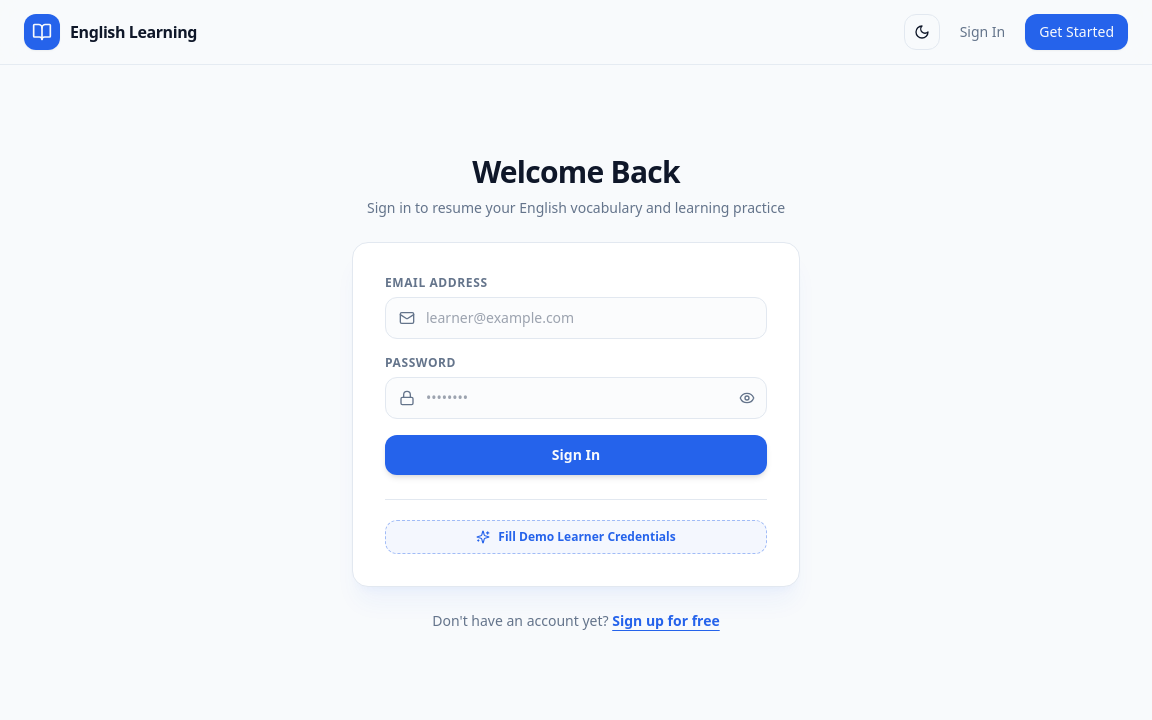
Test: Frontend Authentication Tests › LoginPage Form Component › validates required fields on empty submit
Click the button "Sign In": [576, 455] box top-left (385, 435), bottom-right (767, 475)
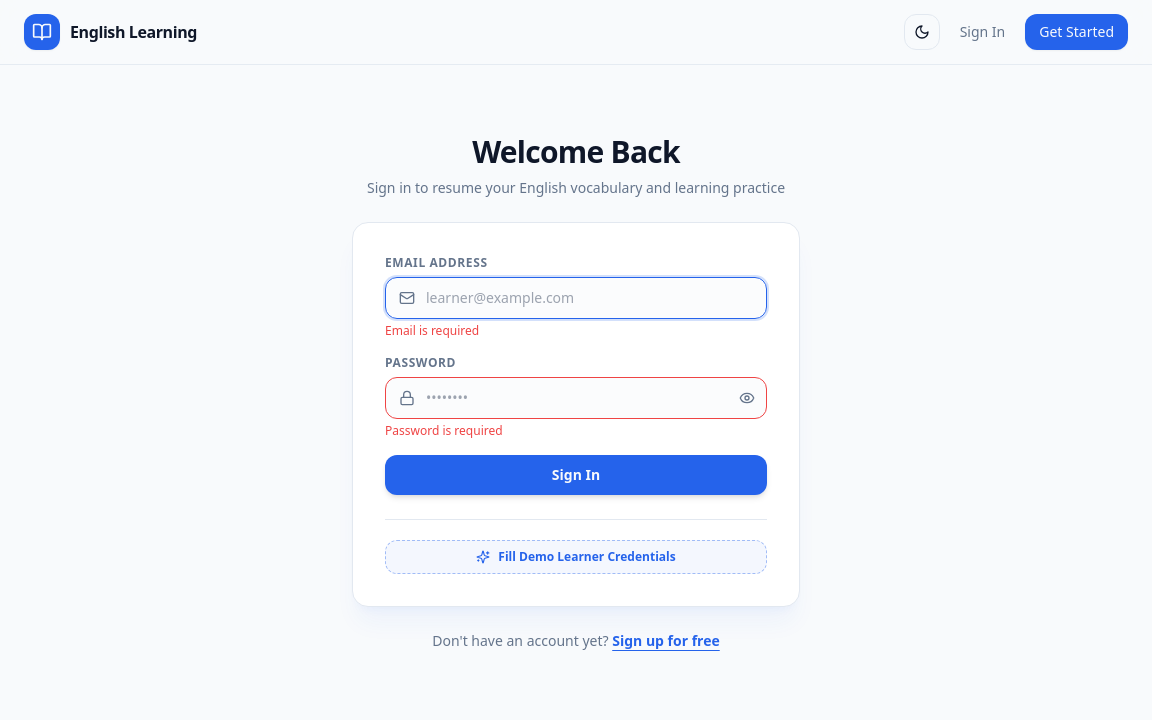
Now the text "Email is required" is shown, box top-left (385, 322), bottom-right (479, 339)
Now the text "Password is required" is shown, box top-left (385, 422), bottom-right (503, 439)
